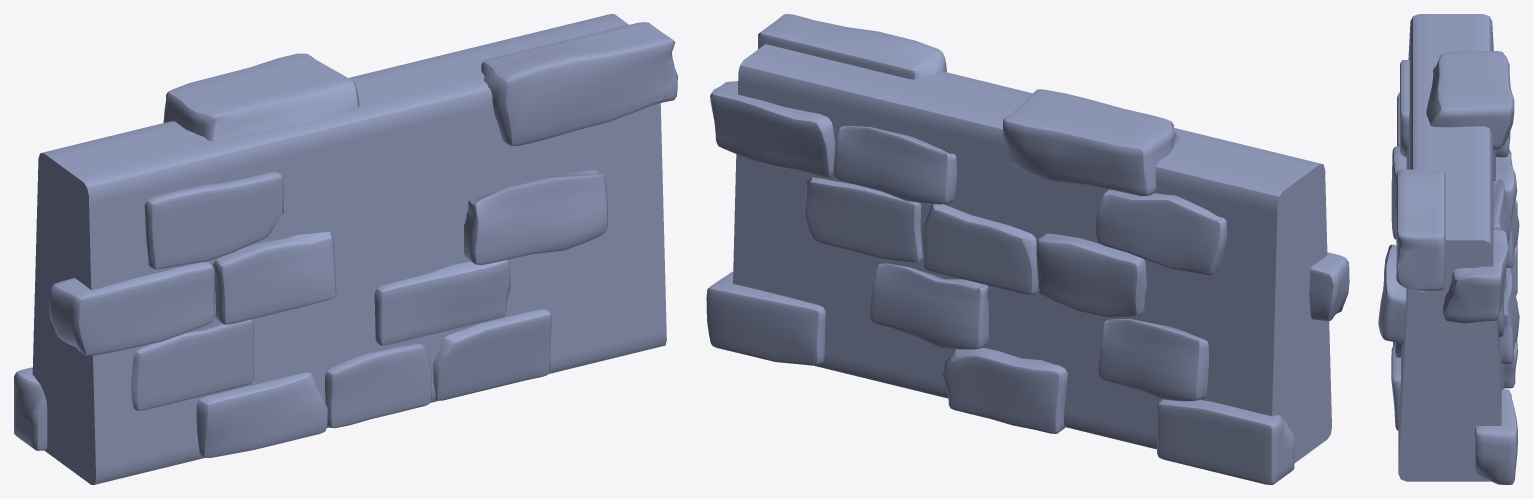
Rendered from Wall_L_1.fbx.
3 views of the same model, side by side, from view 1: azimuth 30°, elevation 25°; view 2: azimuth 150°, elevation 25°; view 3: azimuth 270°, elevation 25° (orthographic). The views are drawn at different scales.
Visible parts, largest first — view 1: wall_L_A; view 2: wall_L_A; view 3: wall_L_A.
Part boxes in pixels (<box>): wall_L_A: <box>14,14,677,484</box>; wall_L_A: <box>706,14,1349,484</box>; wall_L_A: <box>1378,14,1519,484</box>.
Bounding box in the file's own units: 1.1 × 0.541 × 0.2654.
